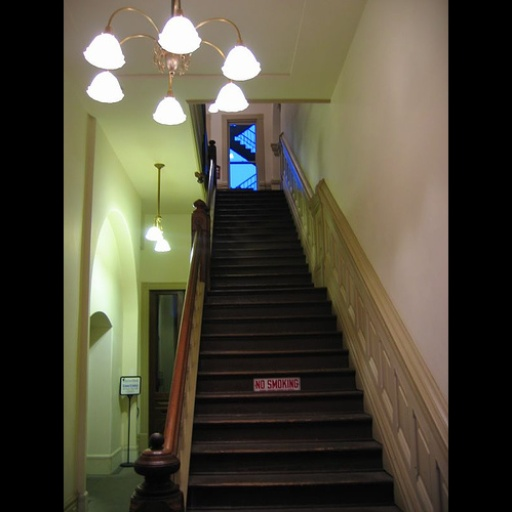Stairs: (188, 191, 399, 512)
